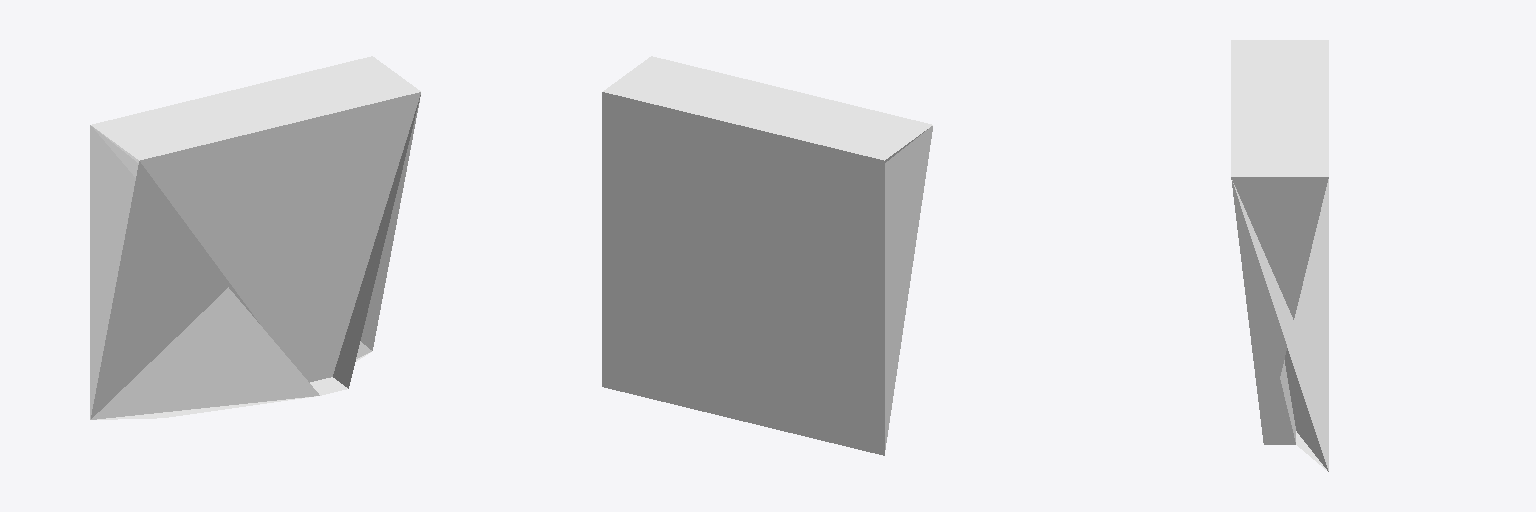
Rendered from big.obj.
3 views of the same model, side by side, from view 1: azimuth 30°, elevation 25°; view 2: azimuth 150°, elevation 25°; view 3: azimuth 270°, elevation 25° (orthographic).
Bounding box in the file's own units: 10 × 10 × 3.